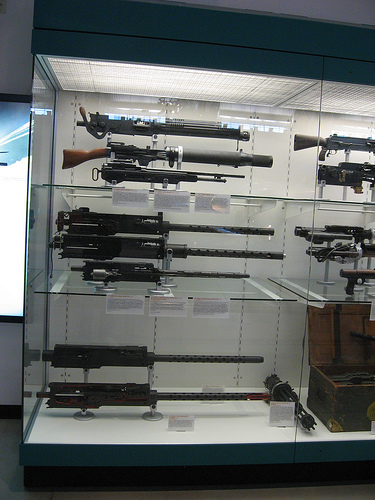rifle: (44, 383, 293, 428), (28, 336, 277, 381), (48, 261, 278, 294), (44, 210, 274, 243), (45, 107, 275, 140), (44, 134, 274, 167), (70, 162, 257, 189)
